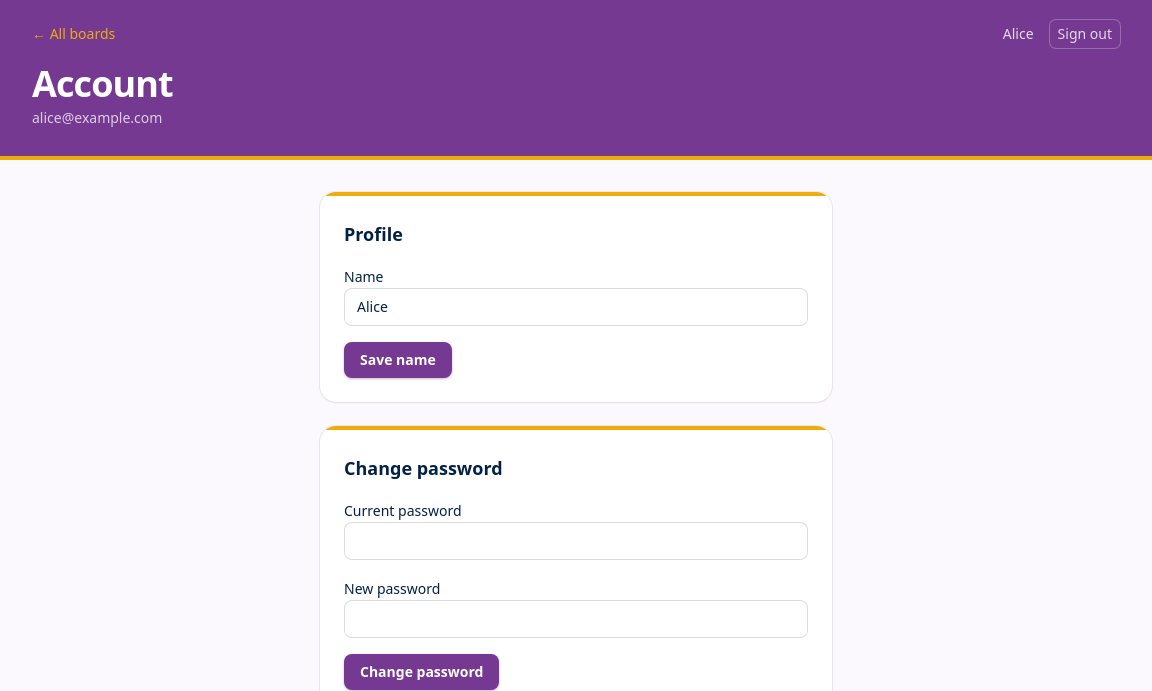
AccountPage › updates the name everywhere
The image size is (1152, 691).
Replace the text in the field labelled "Name" with "Alice Liddell" at (576, 307), box [344, 288, 808, 326]
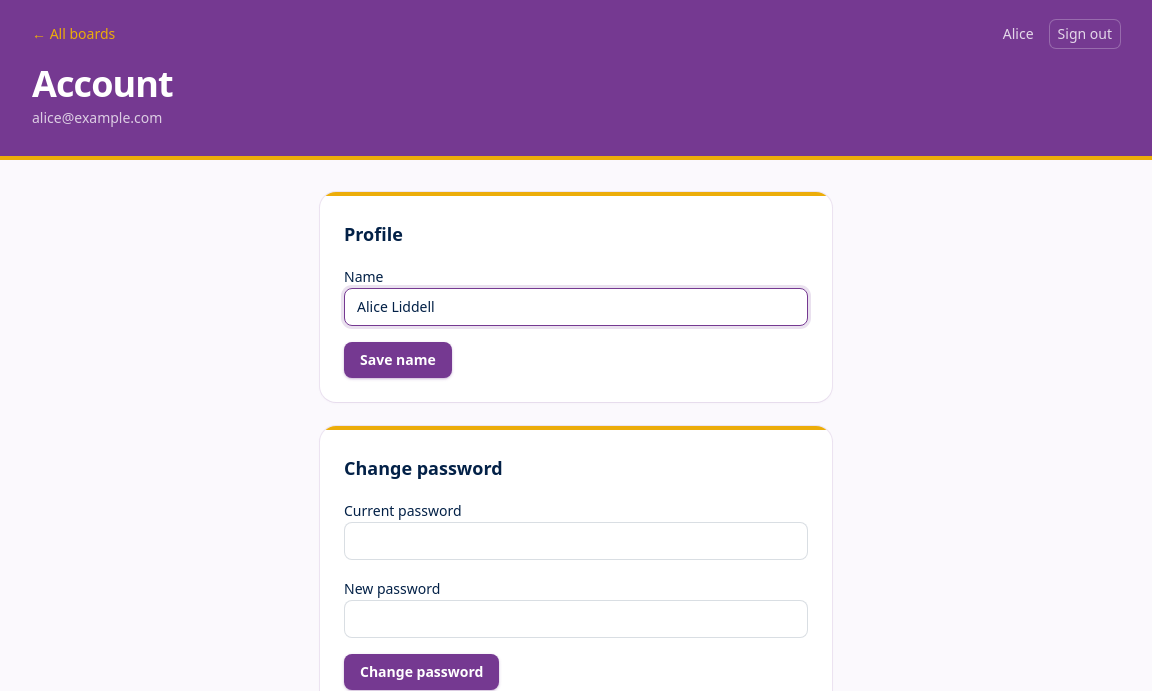
Click the button "Save name" at (398, 360), box [344, 342, 452, 378]
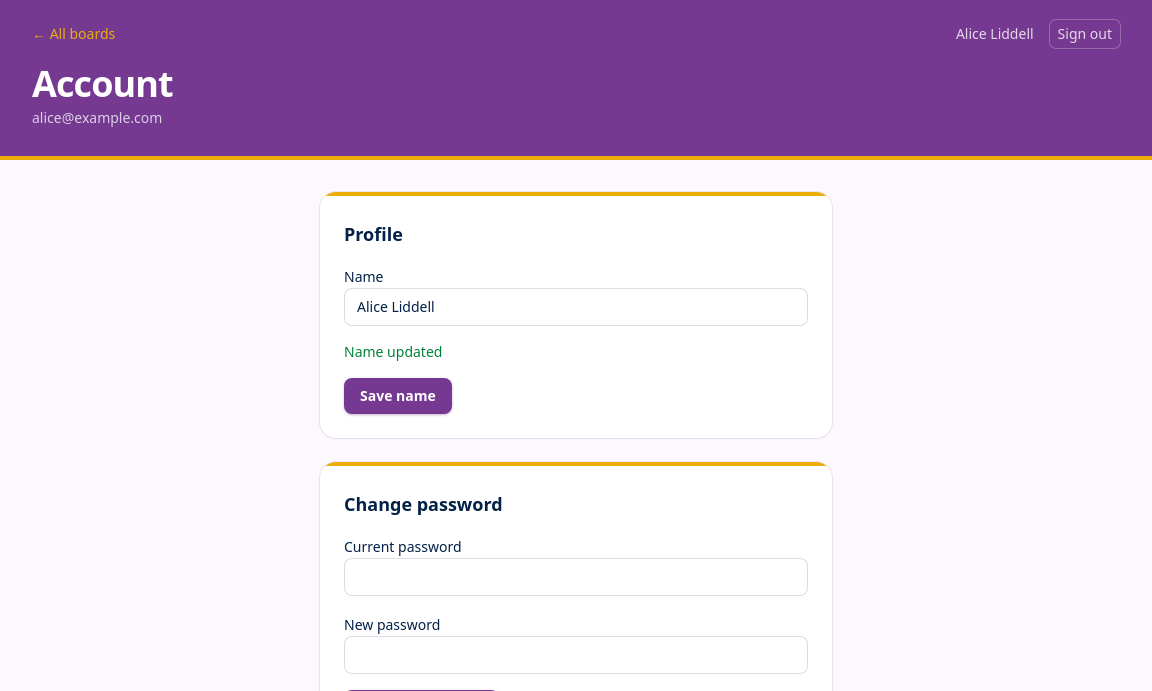
Now the field labelled "Name" holds "Alice Liddell", box [344, 288, 808, 326]
Now the text "Name updated" is shown, box [344, 342, 442, 361]
Now the link "Alice Liddell" is shown, box [956, 24, 1034, 44]
